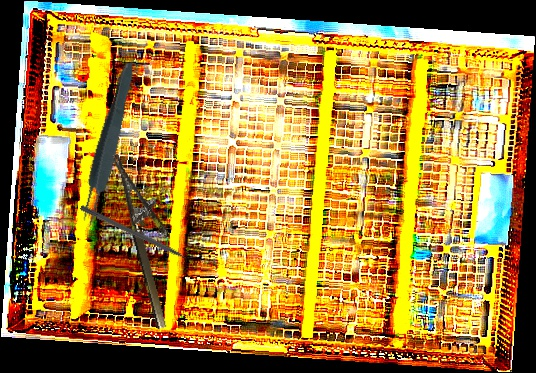Needle Holder: (111, 146, 191, 330)
Pusher: (79, 204, 201, 269)
Tissue Forceps: (74, 59, 141, 230)
